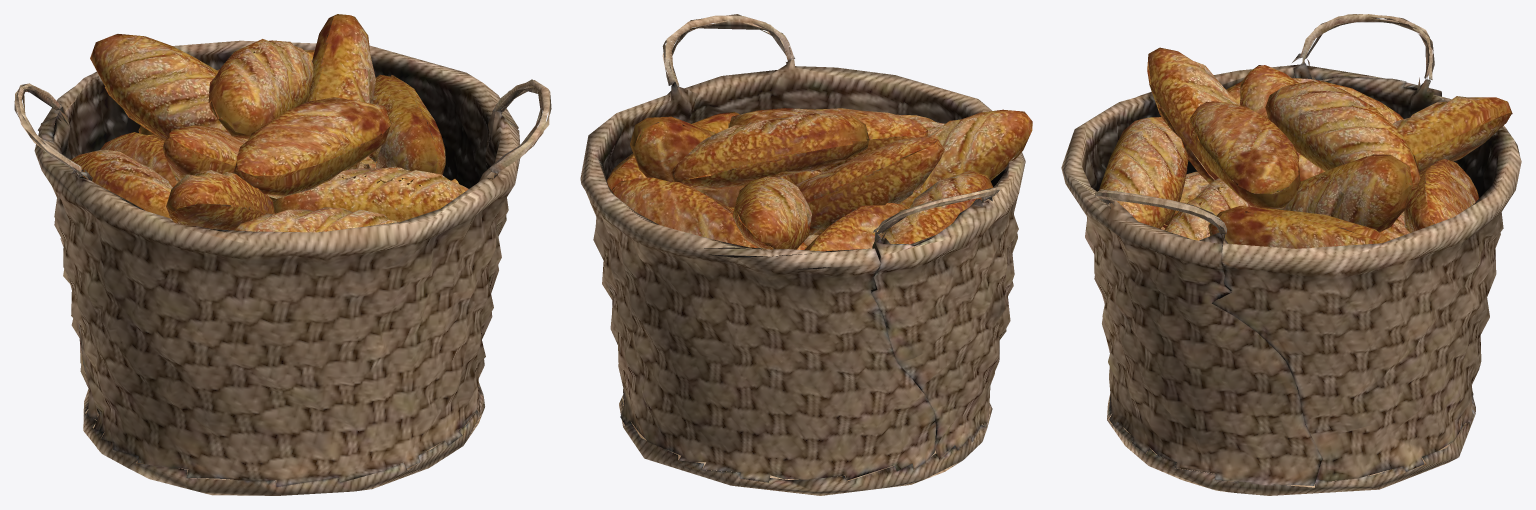
The model's file is coti_bread_in_basket.glb.
3 views of the same model, side by side, from view 1: azimuth 30°, elevation 25°; view 2: azimuth 150°, elevation 25°; view 3: azimuth 270°, elevation 25° (orthographic). The views are drawn at different scales.
Parts seen in each view (by area): view 1: Object_3; view 2: Object_3; view 3: Object_3.
Boxes of the visible parts, bbox=[...] form: Object_3: bbox=[14, 14, 551, 495]; Object_3: bbox=[580, 14, 1032, 495]; Object_3: bbox=[1061, 14, 1521, 495].
Size of the model in its own units: 0.2502 by 0.1923 by 0.2438.
Materials: 2 (2 with a texture image).
